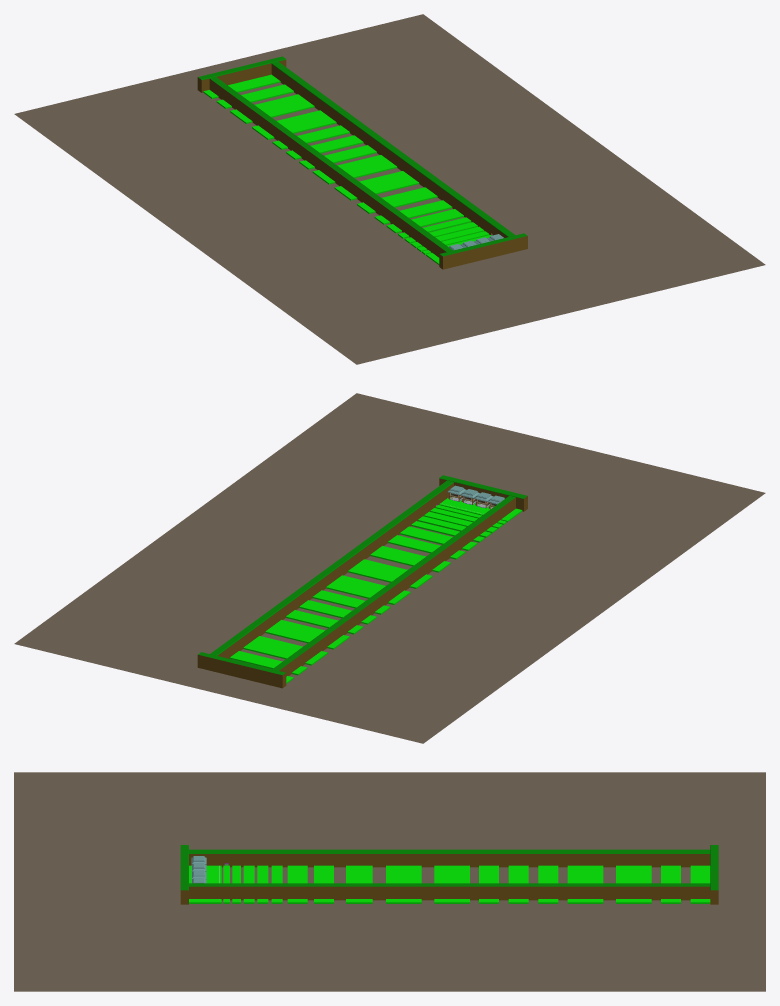
File: Map Song Than.fbx
3 views of the same model, one above another, from view 1: azimuth 30°, elevation 25°; view 2: azimuth 150°, elevation 25°; view 3: azimuth 270°, elevation 25° (orthographic). The views are drawn at different scales.
Parts seen in each view (by area): view 1: Base_San, Base_Tuong, San_Map, San_Map1; view 2: Base_San, Base_Tuong, San_Map, San_Map1; view 3: Base_San, Base_Tuong, San_Map, San_Map1.
Boxes of the visible parts, x1,y1,x2,y2 form: Base_San: [14, 14, 765, 364]; Base_Tuong: [197, 56, 527, 269]; San_Map: [272, 125, 492, 264]; San_Map1: [203, 74, 336, 139]; Base_San: [14, 393, 765, 743]; Base_Tuong: [197, 475, 527, 688]; San_Map: [285, 498, 522, 634]; San_Map1: [230, 620, 349, 683]; Base_San: [14, 772, 765, 991]; Base_Tuong: [180, 845, 718, 904]; San_Map: [189, 864, 558, 903]; San_Map1: [567, 865, 710, 903].
Size of the model in its own units: 5561 by 190 by 8065.
